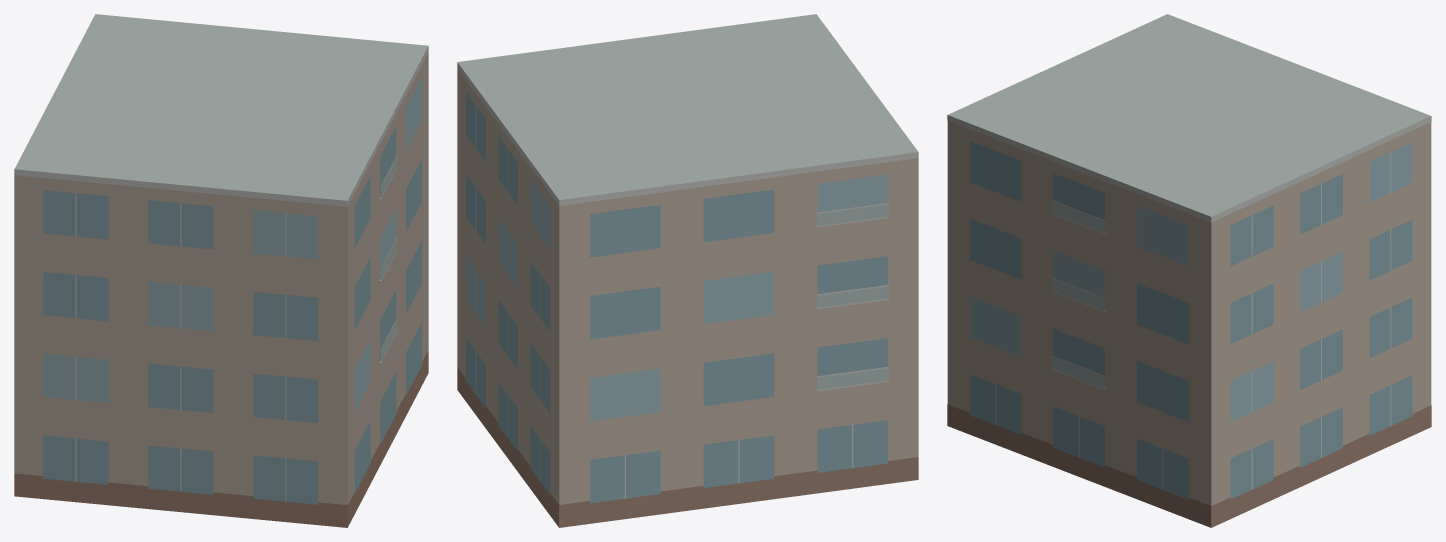
The model's file is survey-upis-33018810.glb.
3 views of the same model, side by side, from view 1: azimuth 30°, elevation 25°; view 2: azimuth 150°, elevation 25°; view 3: azimuth 270°, elevation 25° (orthographic). The views are drawn at different scales.
Visible parts, largest first — view 1: survey-upis-33018810.tmp; view 2: survey-upis-33018810.tmp; view 3: survey-upis-33018810.tmp.
Part boxes in pixels (x1,y1,x2,y2): survey-upis-33018810.tmp: [14, 14, 428, 527]; survey-upis-33018810.tmp: [457, 14, 918, 527]; survey-upis-33018810.tmp: [947, 14, 1431, 527].
Size of the model in its own units: 18.75 by 13.4 by 18.91.
